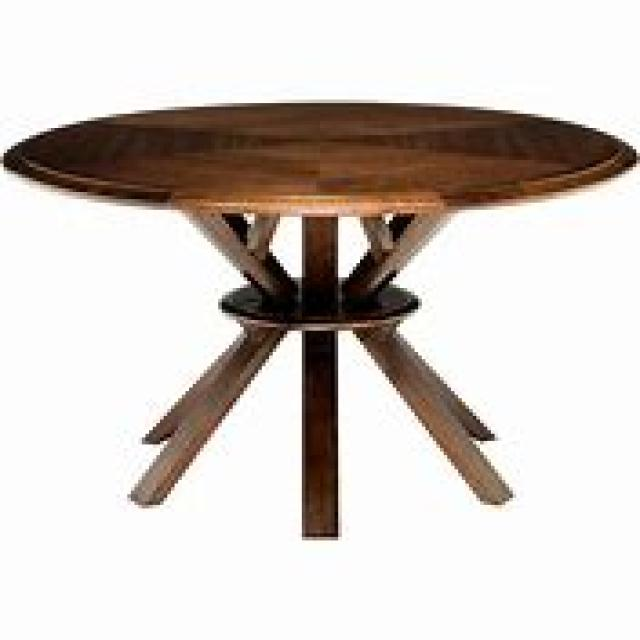table: (0, 96, 636, 537)
